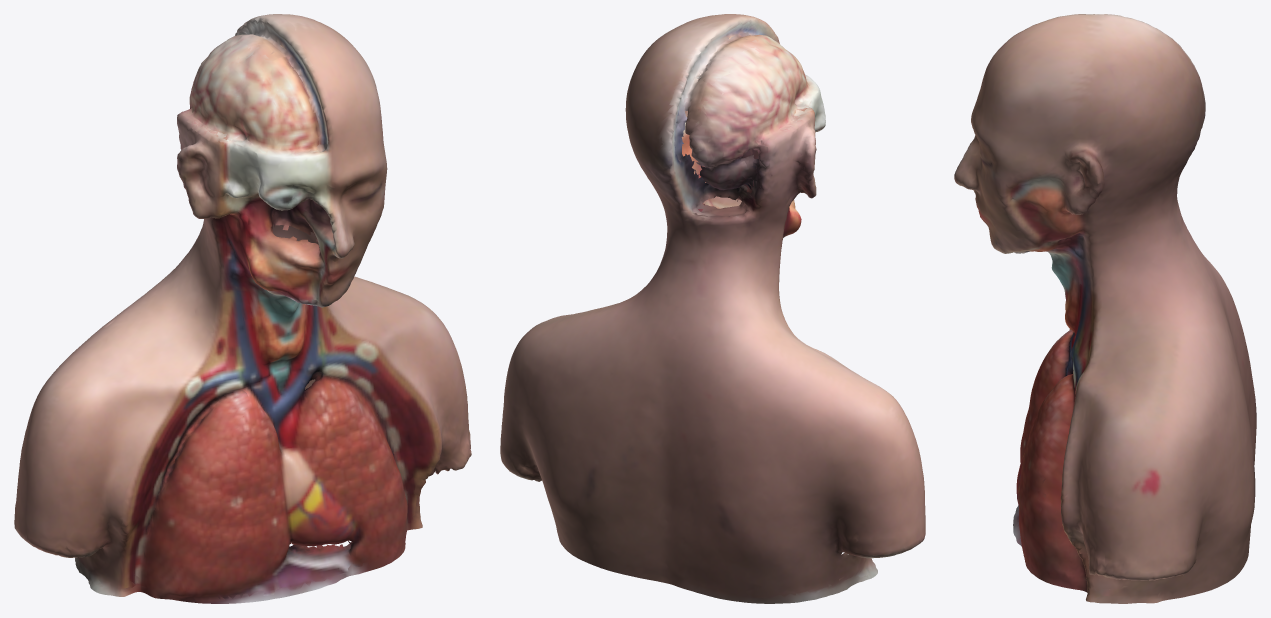
File: upper_body_anatomy.glb
The picture shows the model from 3 angles, left to right: view 1: azimuth 30°, elevation 25°; view 2: azimuth 150°, elevation 25°; view 3: azimuth 270°, elevation 25°; orthographic projection. The views are drawn at different scales.
Parts seen in each view (by area): view 1: Object_2; view 2: Object_2; view 3: Object_2.
Boxes of the visible parts, x1,y1,x2,y2 form: Object_2: (14, 14, 471, 603); Object_2: (500, 14, 925, 603); Object_2: (954, 14, 1256, 603).
Bounding box in the file's own units: 1.84 × 2.13 × 1.12.
1 material, 1 textured.
